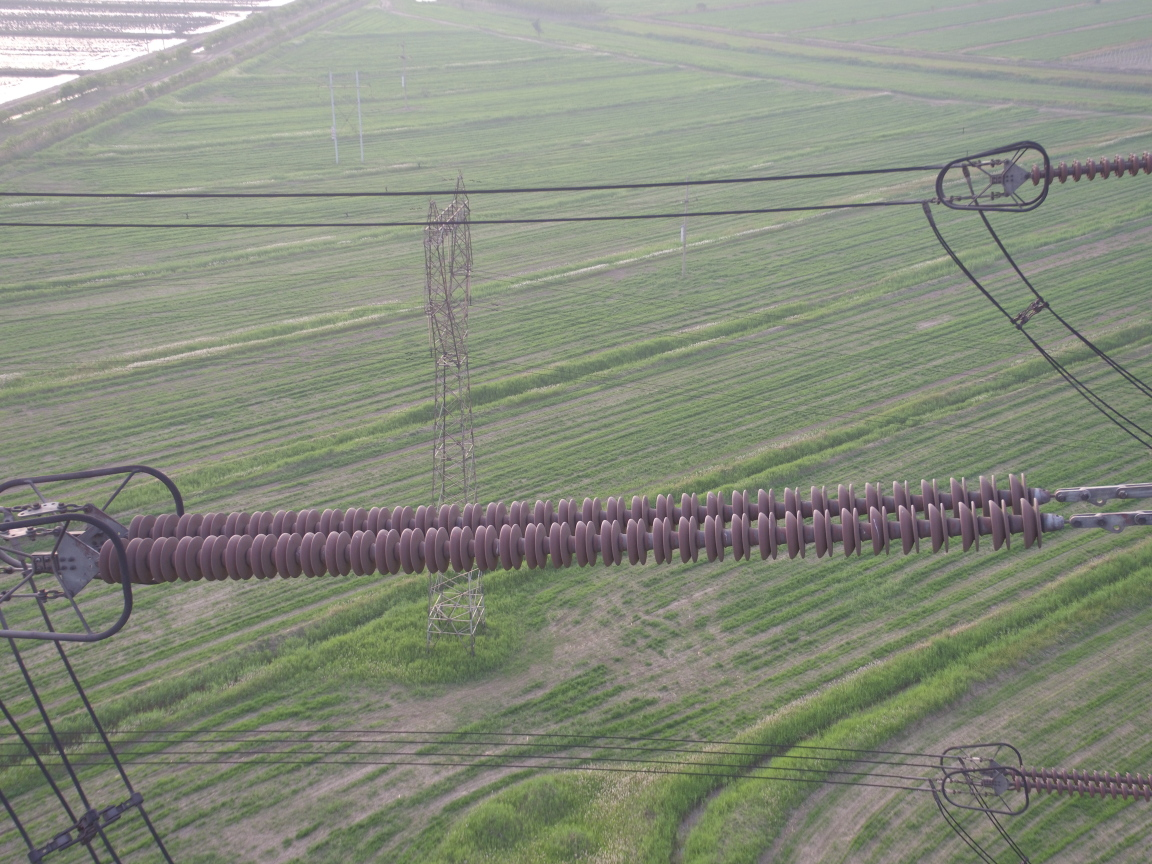insulator: (72, 464, 1102, 591), (999, 757, 1152, 803), (1016, 151, 1152, 189)
